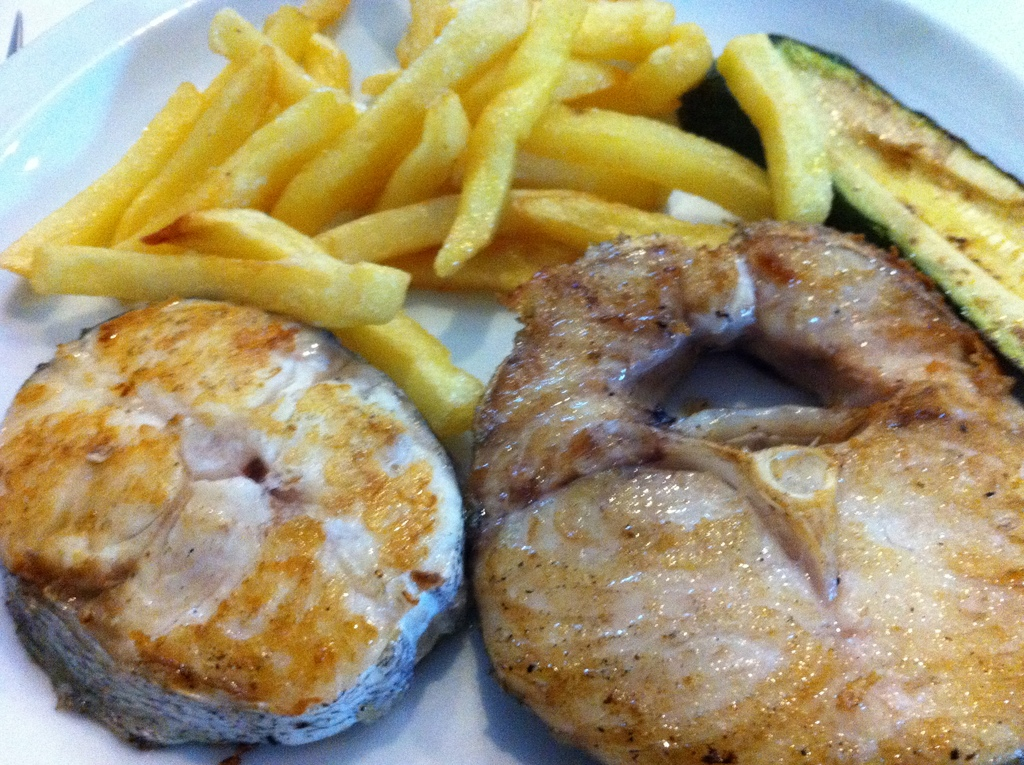French fries: (23, 28, 849, 421)
